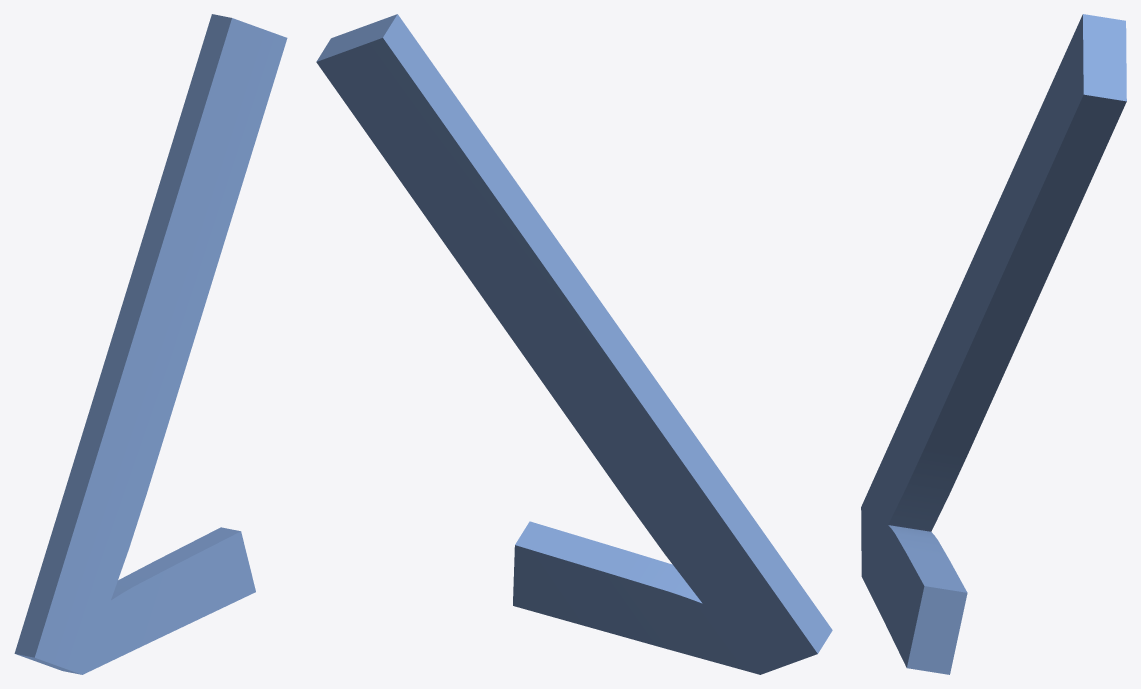
Rendered from Number_1.gltf.
3 views of the same model, side by side, from view 1: azimuth 30°, elevation 25°; view 2: azimuth 150°, elevation 25°; view 3: azimuth 270°, elevation 25° (orthographic). The views are drawn at different scales.
Parts seen in each view (by area): view 1: Sub_2_Cell_2_2_Number_1; view 2: Sub_2_Cell_2_2_Number_1; view 3: Sub_2_Cell_2_2_Number_1.
Boxes of the visible parts, x1,y1,x2,y2 form: Sub_2_Cell_2_2_Number_1: (14,14,287,674); Sub_2_Cell_2_2_Number_1: (316,14,832,674); Sub_2_Cell_2_2_Number_1: (861,14,1126,674).
Size of the model in its own units: 0.0148 by 0.0226 by 0.00754.
